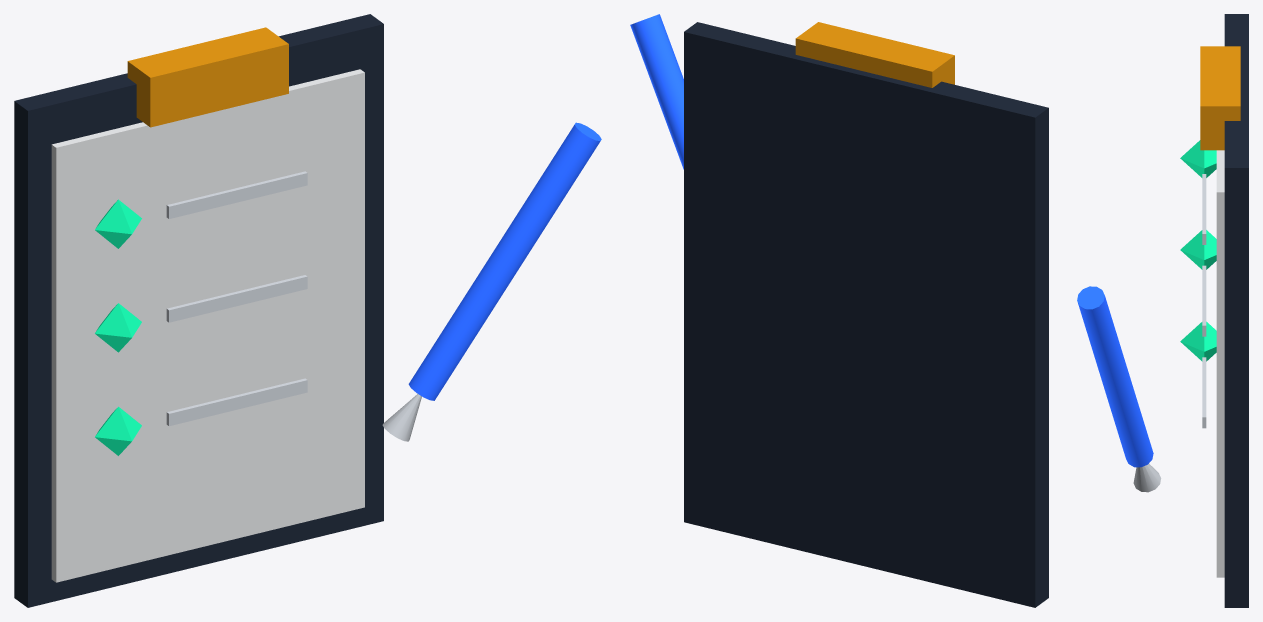
Rendered from registration.glb.
3 views of the same model, side by side, from view 1: azimuth 30°, elevation 25°; view 2: azimuth 150°, elevation 25°; view 3: azimuth 270°, elevation 25° (orthographic). The views are drawn at different scales.
Parts seen in each view (by area): view 1: object 9, clipboard, object 8, stylus_pen, object 4, object 6, object 2, object 3, object 5, object 1; view 2: clipboard, object 8, stylus_pen; view 3: clipboard, stylus_pen, object 9, object 8, object 5, object 3, object 1, object 4, object 6, object 2.
Boxes of the visible parts, x1,y1,x2,y2 form: object 9: (51,69,364,582); clipboard: (14,14,383,607); object 8: (127,27,288,127); stylus_pen: (382,122,601,441); object 4: (166,275,307,322); object 6: (166,378,307,426); object 2: (166,171,307,218); object 3: (95,303,141,352); object 5: (95,406,141,455); object 1: (95,199,141,248); clipboard: (684,22,1048,607); object 8: (795,22,954,87); stylus_pen: (630,14,683,169); clipboard: (1224,14,1248,607); stylus_pen: (1077,286,1161,492); object 9: (1216,150,1224,577); object 8: (1200,46,1240,150); object 5: (1180,321,1216,361); object 3: (1180,230,1216,269); object 1: (1180,140,1216,177); object 4: (1202,265,1206,336); object 6: (1202,357,1206,428); object 2: (1202,174,1206,244).
Size of the model in its own units: 1.26 by 1.24 by 0.4245.
